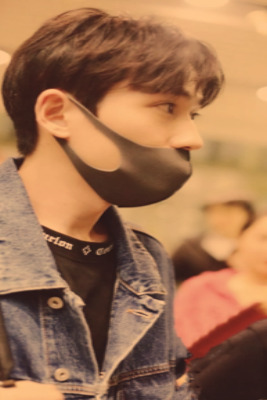mask_weared_incorrect: (66, 97, 203, 207)
